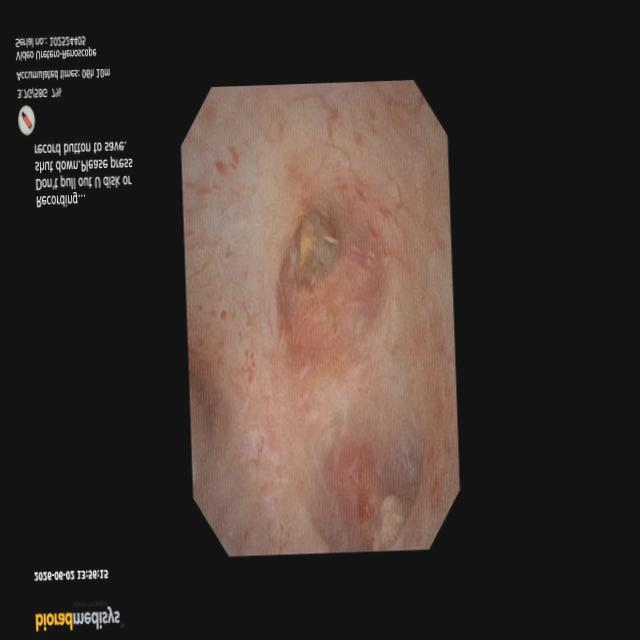stone-new: (288, 209, 340, 291)
